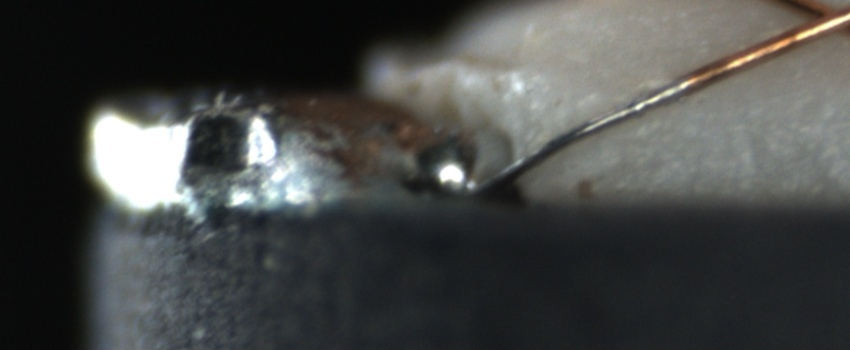CL: (777, 0, 848, 44)
DL: (685, 105, 850, 148)
TS: (470, 82, 688, 196)
TTCW: (460, 22, 812, 200)
